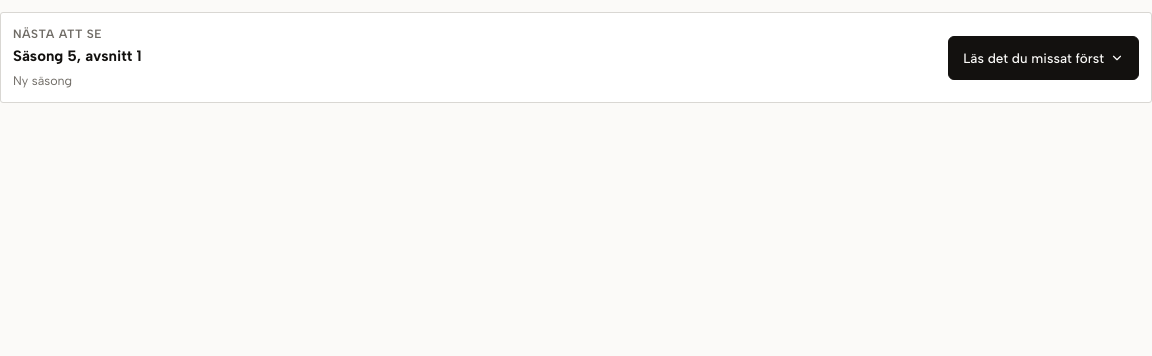
Test: RecapPanel timeline › derives the prior-season list from coveredBoundary, not the raw boundary, on a fallback hit
The width and height of the screenshot is (1152, 356).
What coordinates should you click on to do the following:
click the button "Läs det du missat först"
I would click on:
 (1044, 58)
Its box is x1=948 y1=36 x2=1139 y2=80.
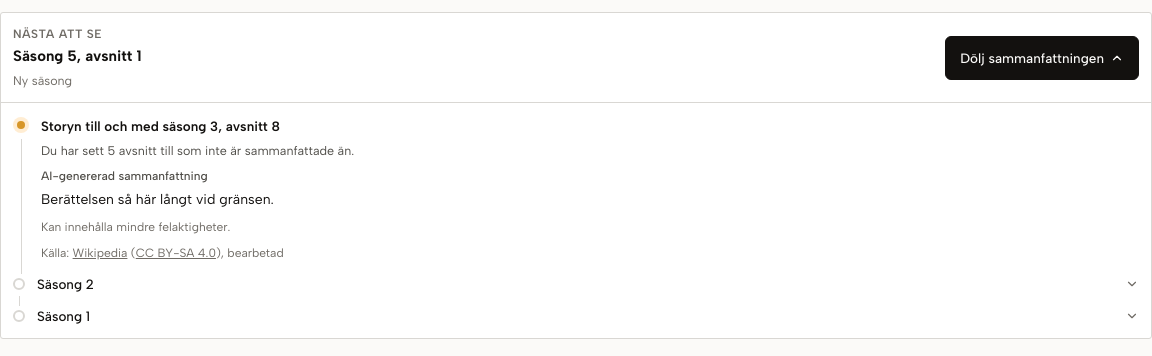
Expected: the text "Storyn till och med säsong 3, avsnitt 8" is shown, x1=41 y1=118 x2=280 y2=134
Expected: the button "Säsong 1" is shown, x1=37 y1=306 x2=1139 y2=326
Expected: the button "Säsong 2" is shown, x1=37 y1=274 x2=1139 y2=294
